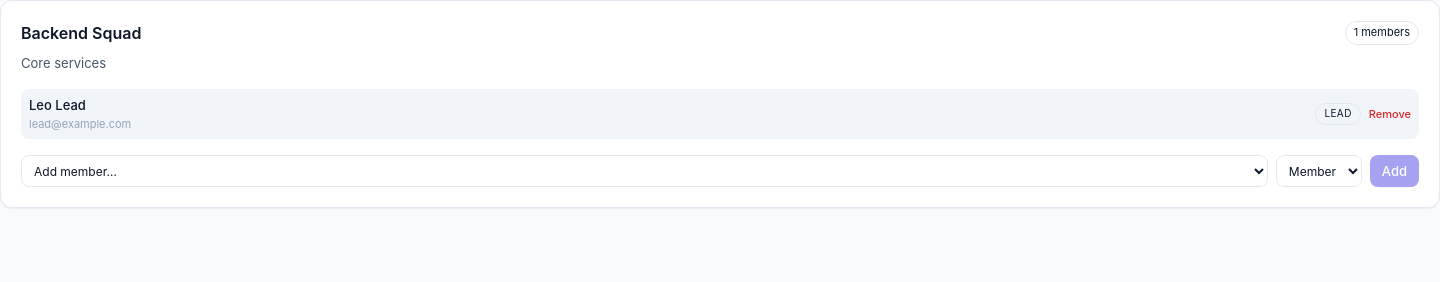
TeamCard › adds an active user to the team
expect the text "1 members" is shown: met, box [1345,21,1419,45]
Select "Mia Member (member@example.com)" in the dropdown named "Add a member to Backend Squad": (644, 171) [21,155,1268,187]
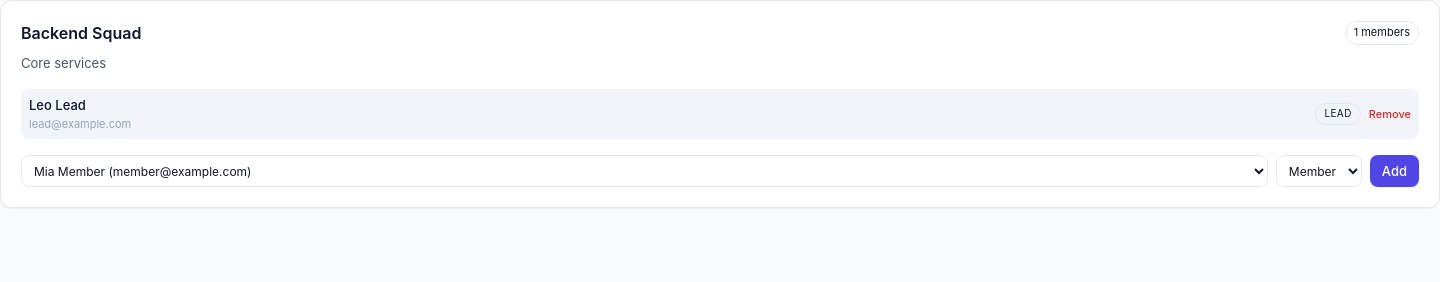
Click the button "Add": (1394, 171) [1370,155,1419,187]
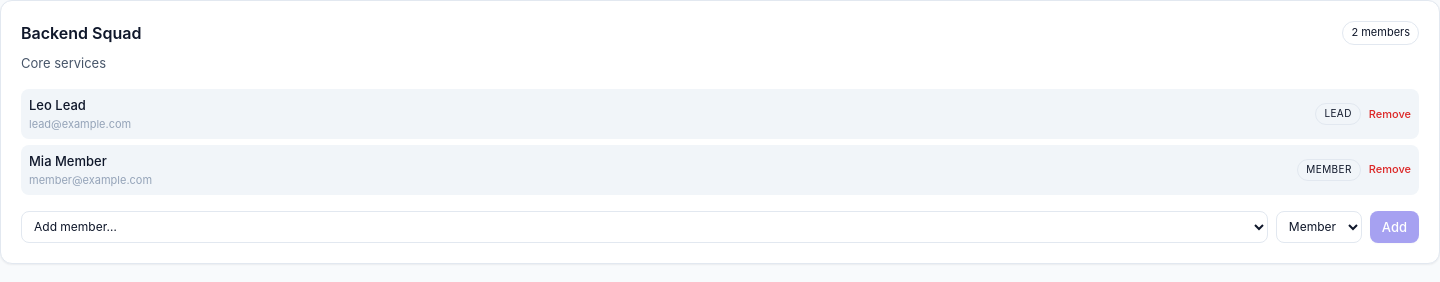
expect the text "Mia Member" is shown: met, box [29,153,107,169]
expect the text "2 members" is shown: met, box [1342,21,1419,45]
